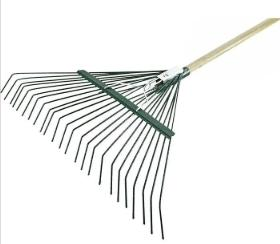RATEAU: (0, 4, 280, 244)
